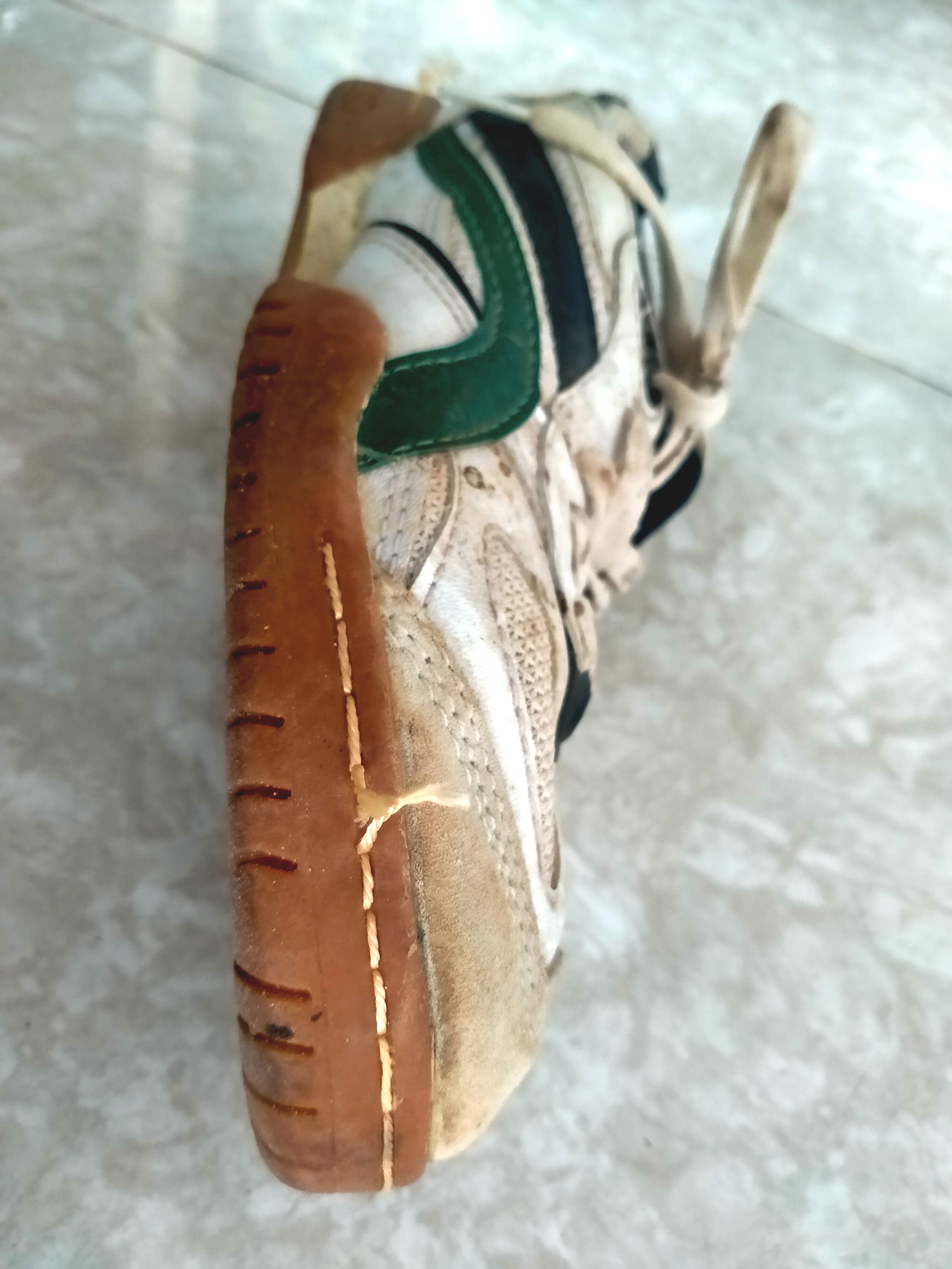broken: (334, 747, 395, 875)
